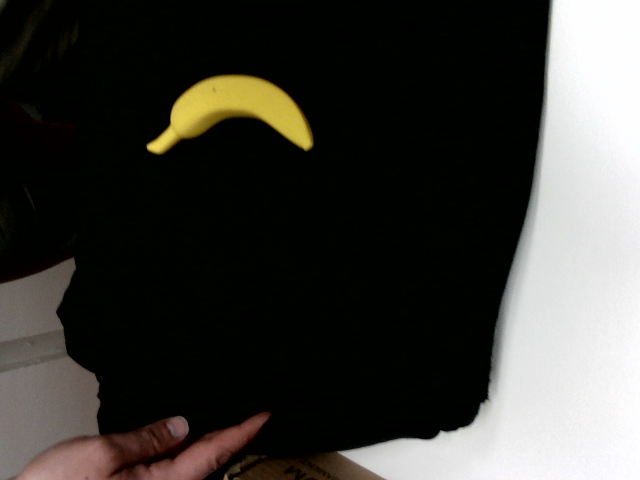banana: (146, 73, 312, 153)
